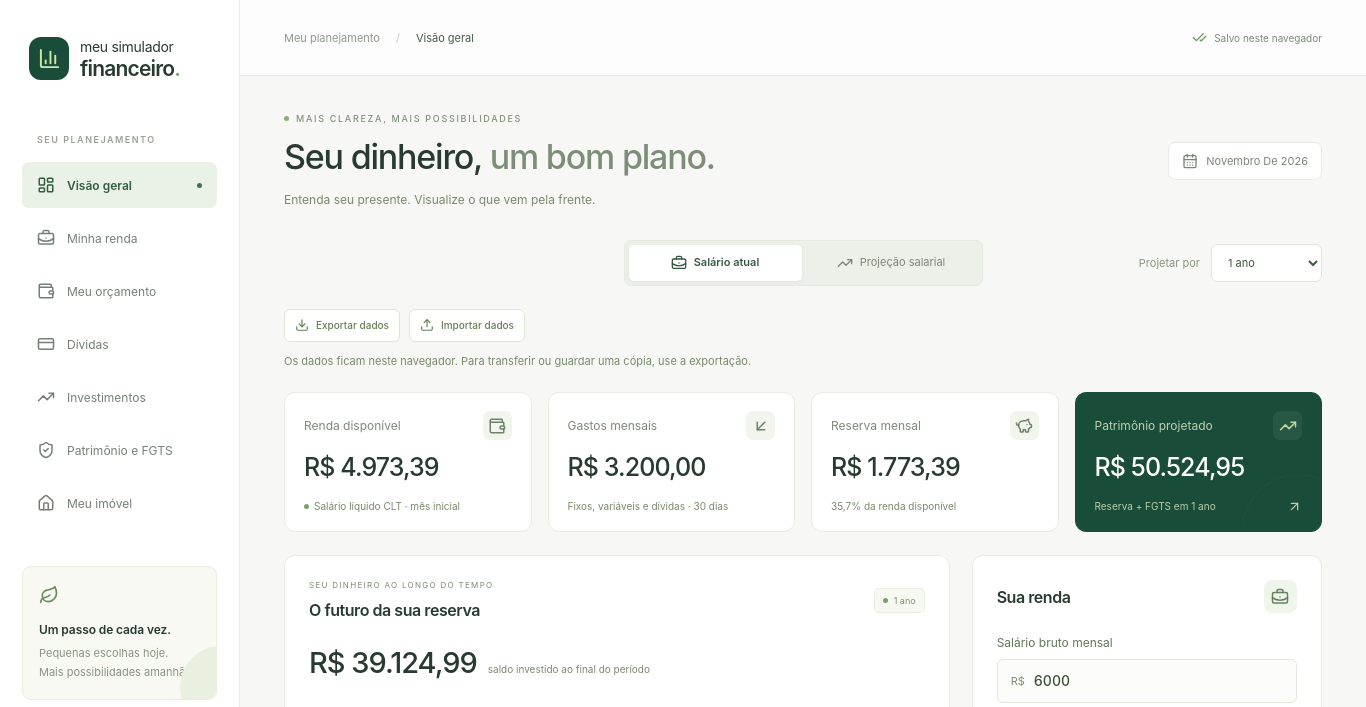
Test case: interações e persistência › atualiza os cálculos automaticamente e mantém o salário imobiliário independente
Later steps or results of the test are not shown.
Replace the text in the number field labelled "Salário bruto mensal" with "10000": (1160, 681) [1025, 660, 1296, 702]
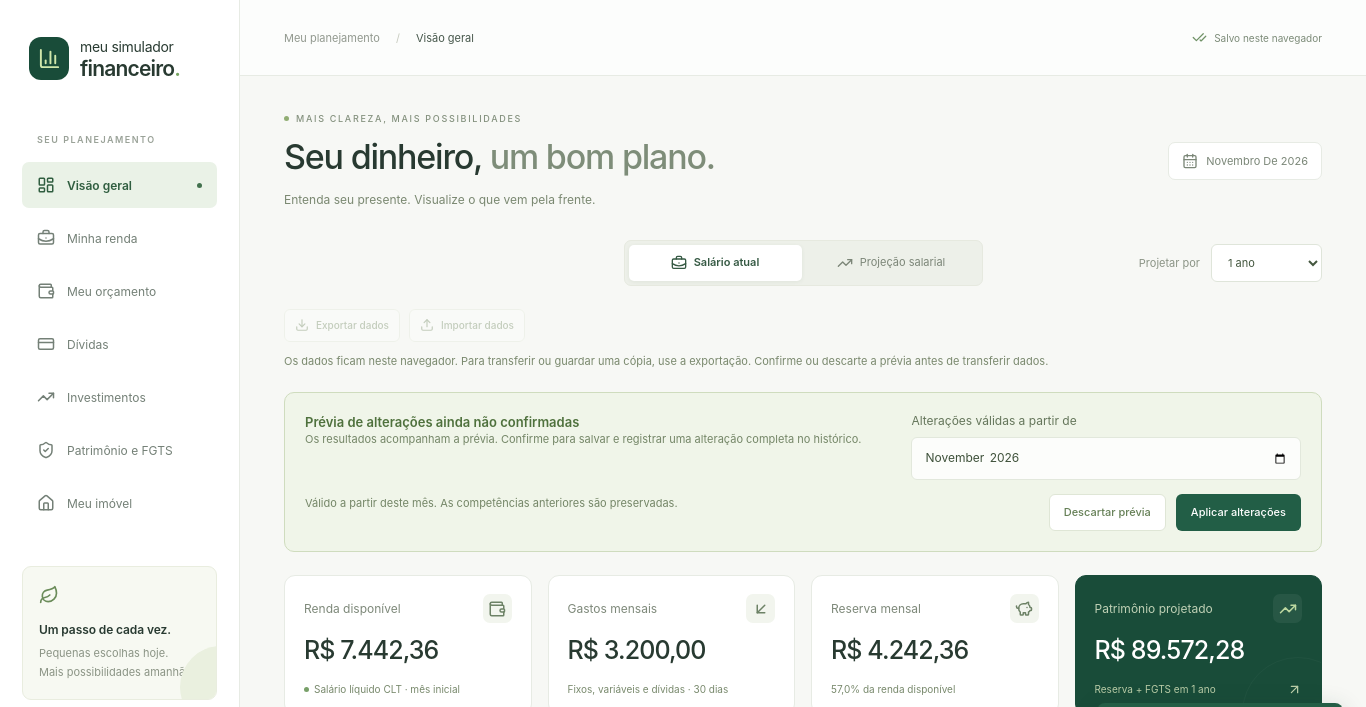
Check: the text "R$ 7.442,36" is shown, box [304, 636, 438, 666]
